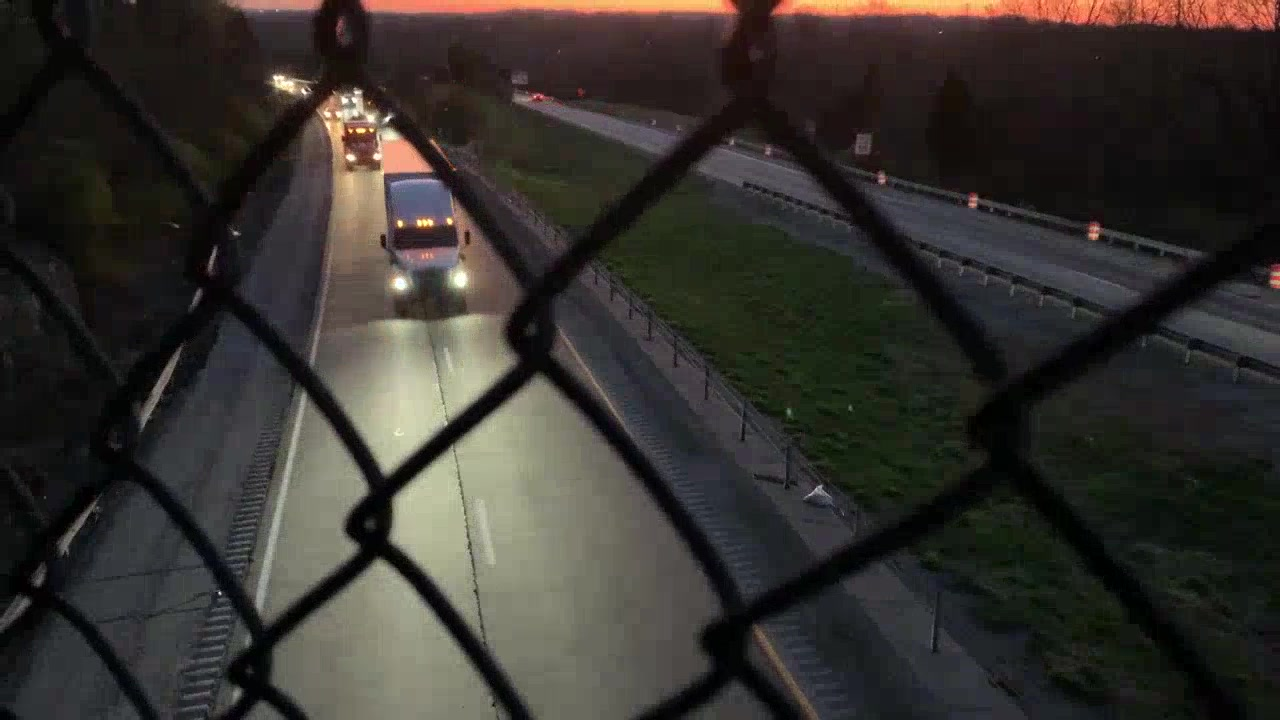heavyTruck: (371, 138, 477, 322), (337, 117, 384, 172)
